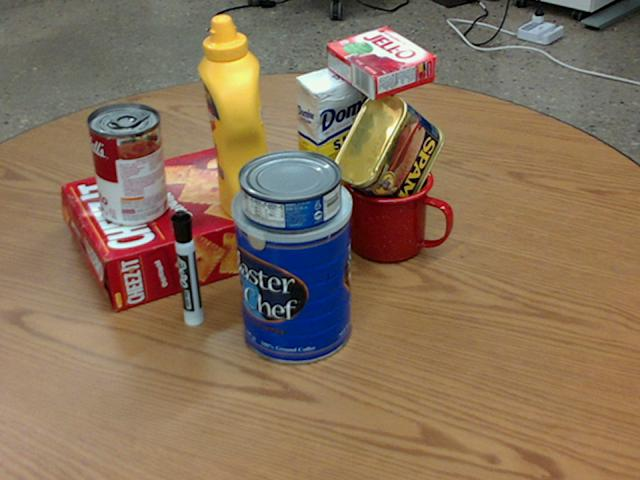cracker_box: (64, 142, 310, 312)
gelatin_box: (325, 27, 434, 99)
large_marker: (172, 211, 204, 326)
master_chef_can: (228, 169, 351, 362)
mug: (345, 156, 454, 262)
mustard_bottle: (197, 15, 275, 219)
potted_meat_can: (332, 91, 442, 214)
sugar_box: (296, 56, 389, 236)
tomato_soup_can: (86, 103, 166, 226)
tuna_fish_can: (237, 148, 340, 231)
